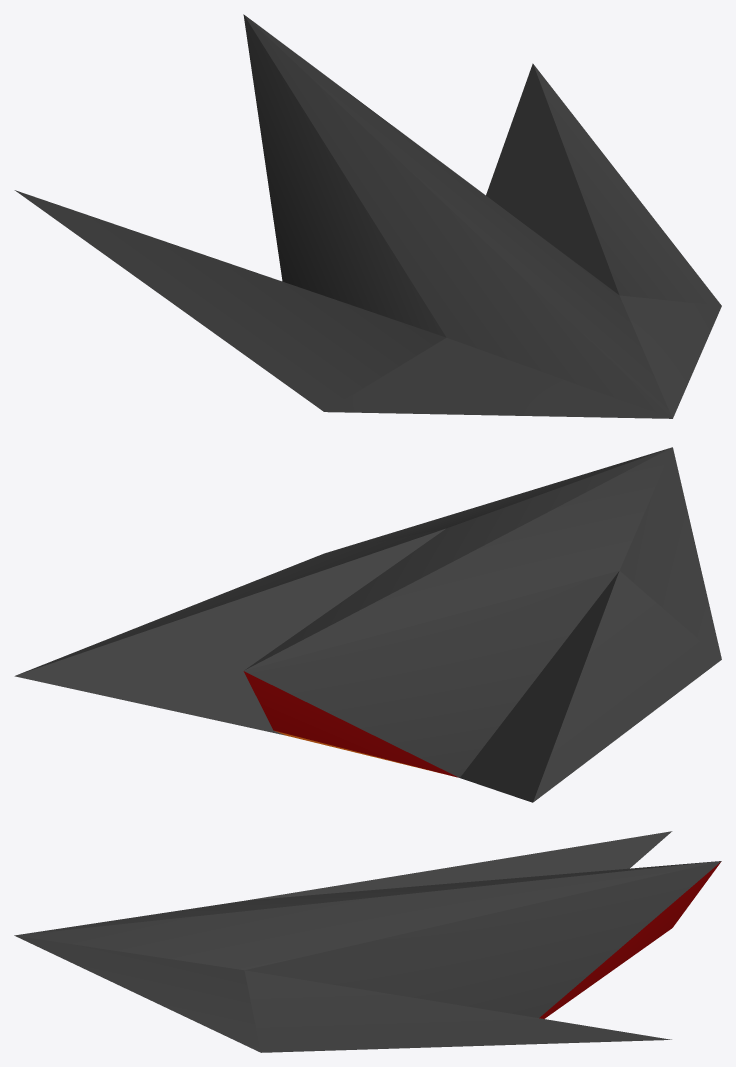
File: ship2.obj
The picture shows the model from 3 angles, top to bottom: view 1: azimuth 30°, elevation 25°; view 2: azimuth 150°, elevation 25°; view 3: azimuth 270°, elevation 25°; orthographic projection. The views are drawn at different scales.
Parts seen in each view (by area): view 1: 000_Buffer_Layer; view 2: 000_Buffer_Layer; view 3: 000_Buffer_Layer.
Part boxes in pixels (x1,y1,x2,y2): 000_Buffer_Layer: [14, 14, 721, 418]; 000_Buffer_Layer: [14, 447, 721, 802]; 000_Buffer_Layer: [14, 831, 721, 1052].
Bounding box in the file's own units: 60 × 20 × 86.
